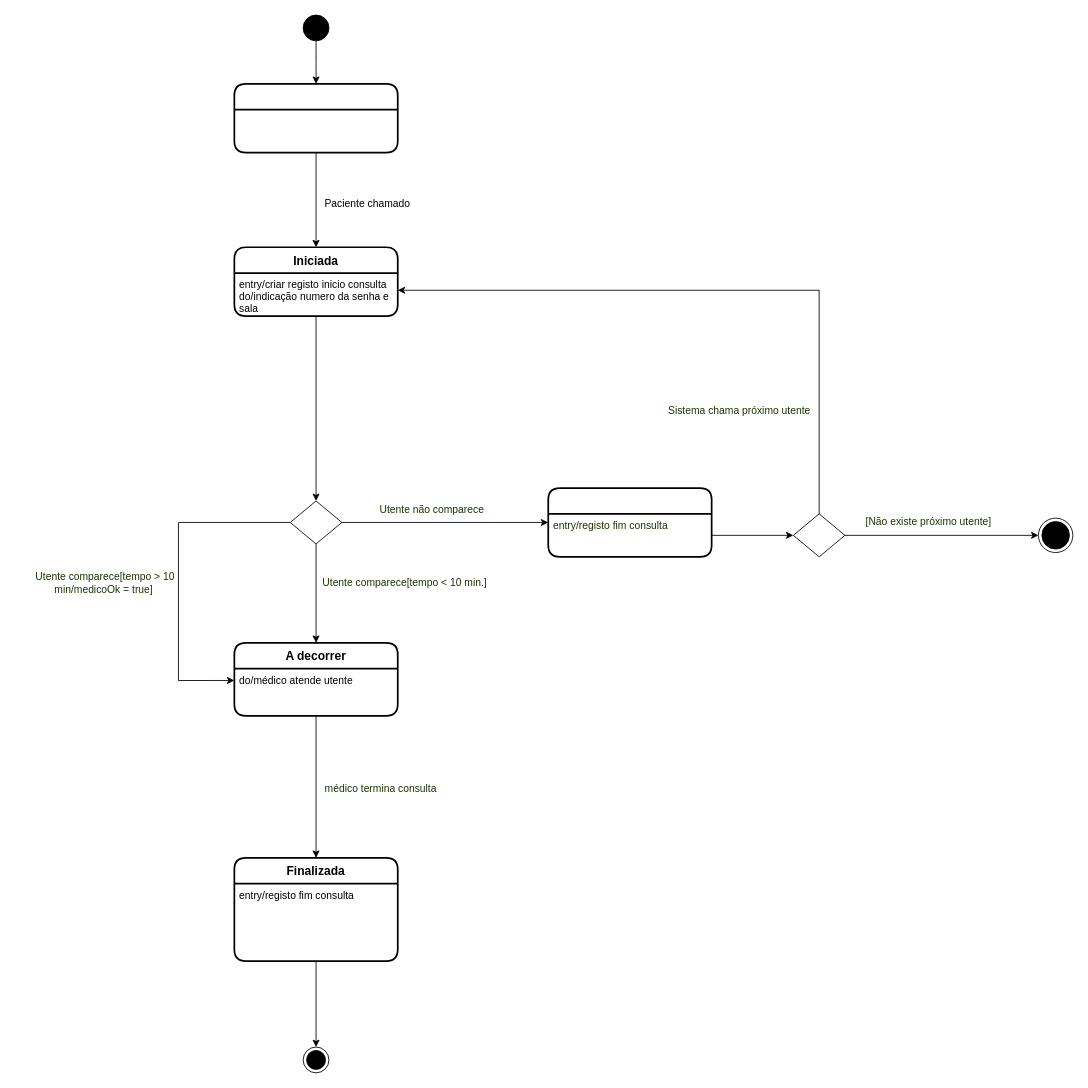
Some shapes in this 1088 by 1088 pixel diagram are drawn without their labels. The box of each missing label's shape, as (x1, y1, x2, y2) in pixels:
Agendada: (233, 83, 398, 153)
Cancelada: (547, 487, 712, 557)
